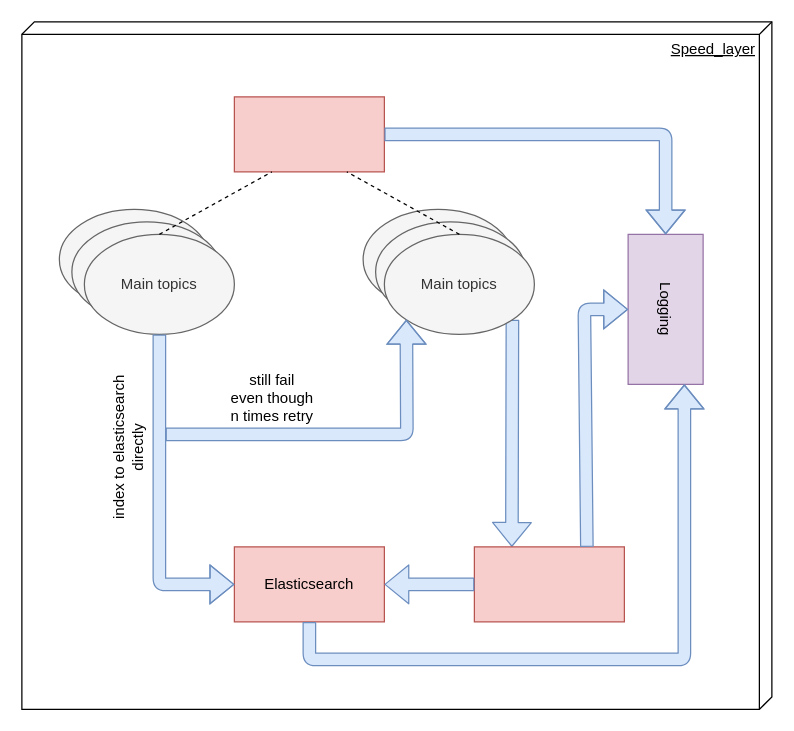
This 794x731 diagram has some shape labels left out. The shapes that lost their labels are listed below. From the top down, each one's centre as x and y in pixels, then its label:
At (x=308, y=134): "Kafka".
At (x=548, y=584): "Scheduled Checksum".
